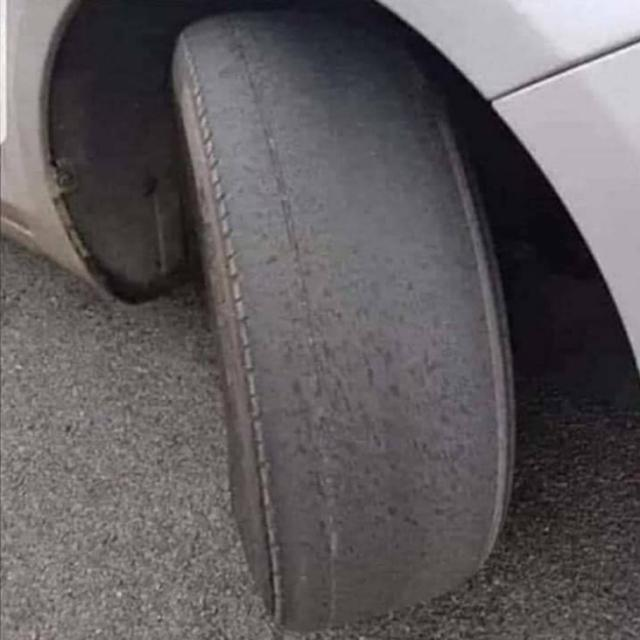Flat spots: (276, 104, 466, 573)
